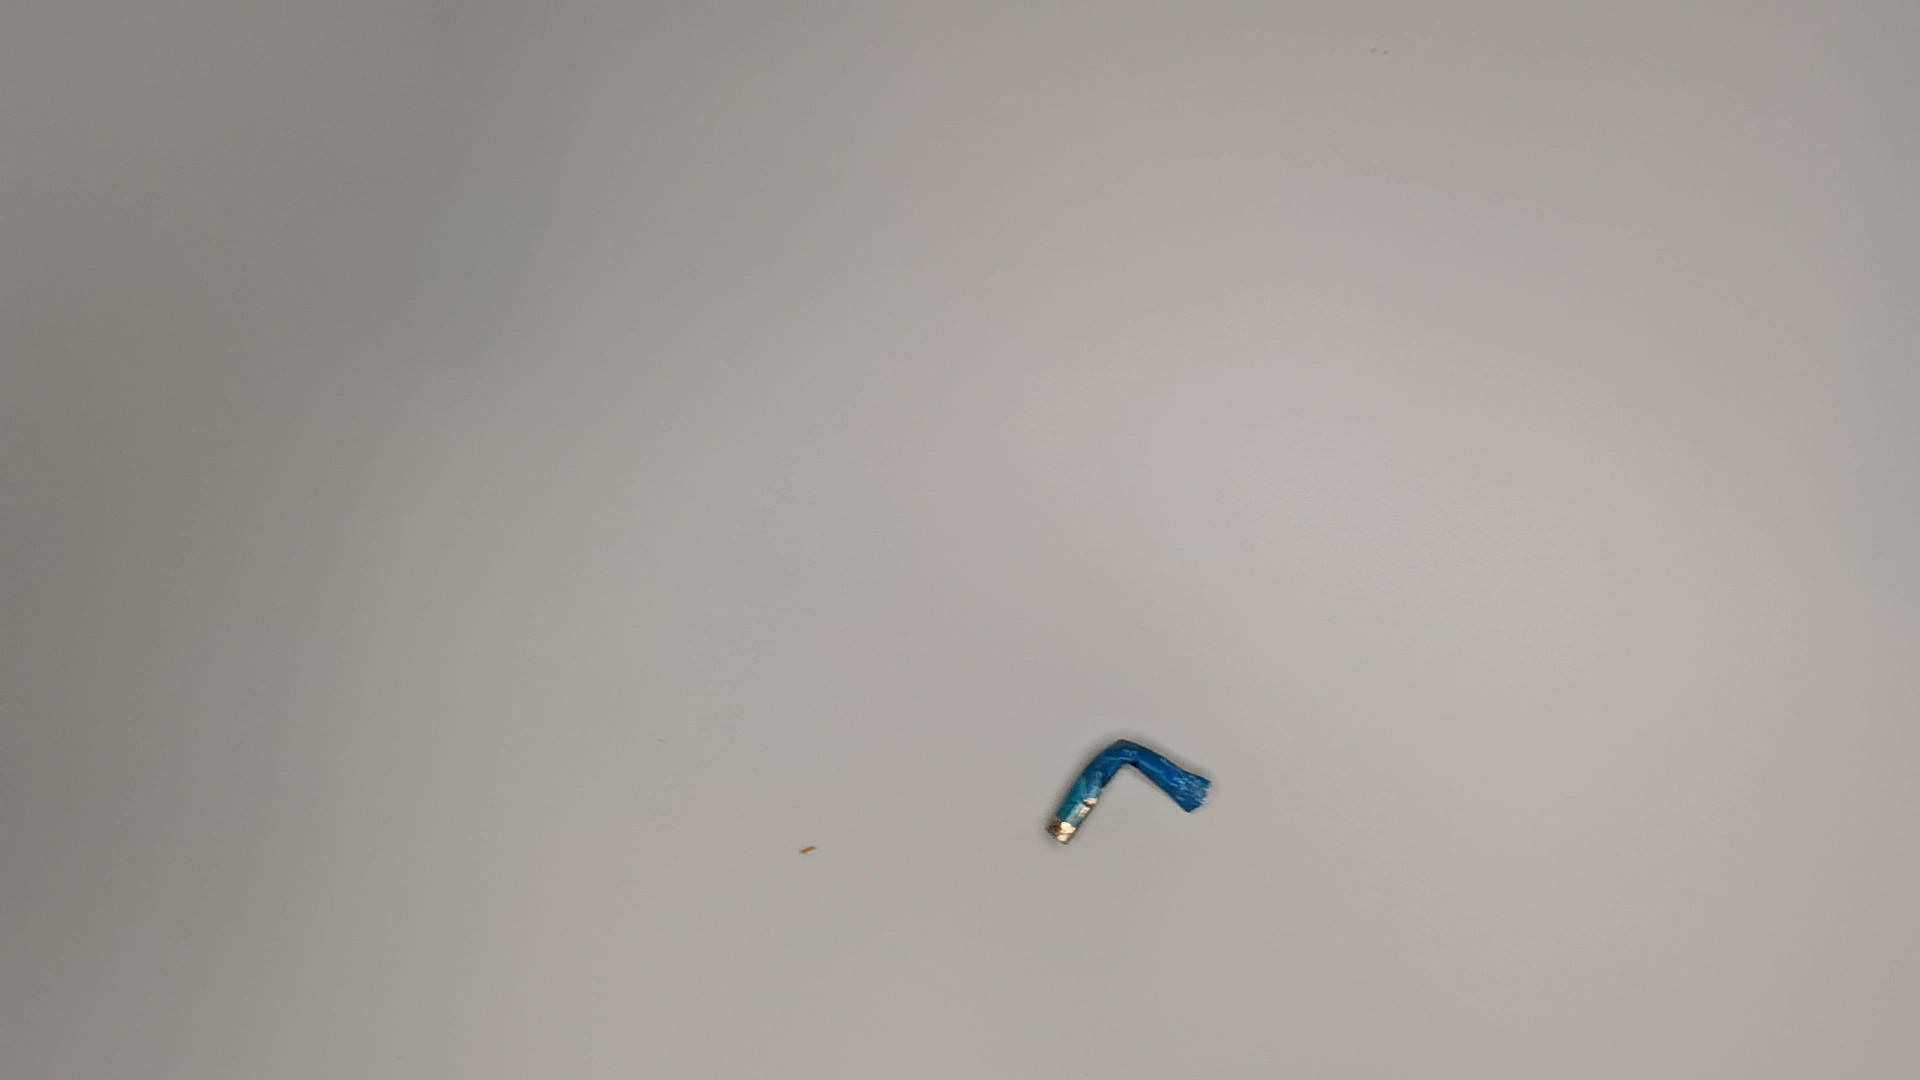cigarette: (1034, 737, 1228, 862)
